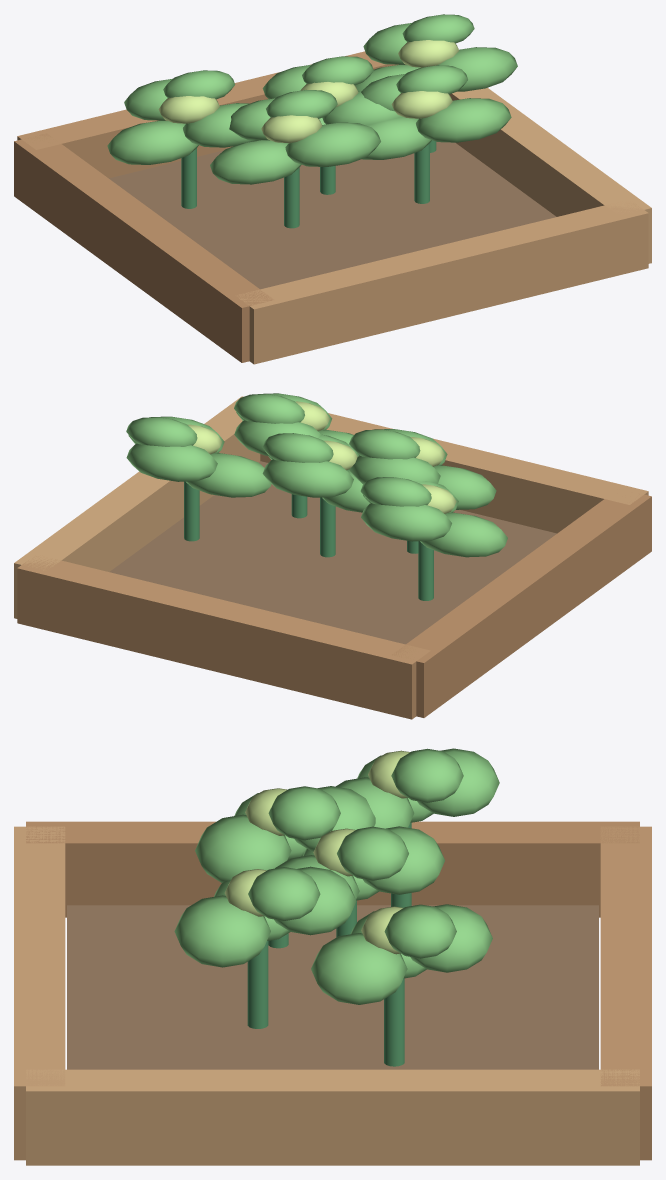
Rendered from crop_leafy_mid.glb.
3 renders of one model, top to bottom at view 1: azimuth 30°, elevation 25°; view 2: azimuth 150°, elevation 25°; view 3: azimuth 270°, elevation 25°, orthographic. The views are drawn at different scales.
Size of the model in its own units: 0.935 by 0.3474 by 0.935.
